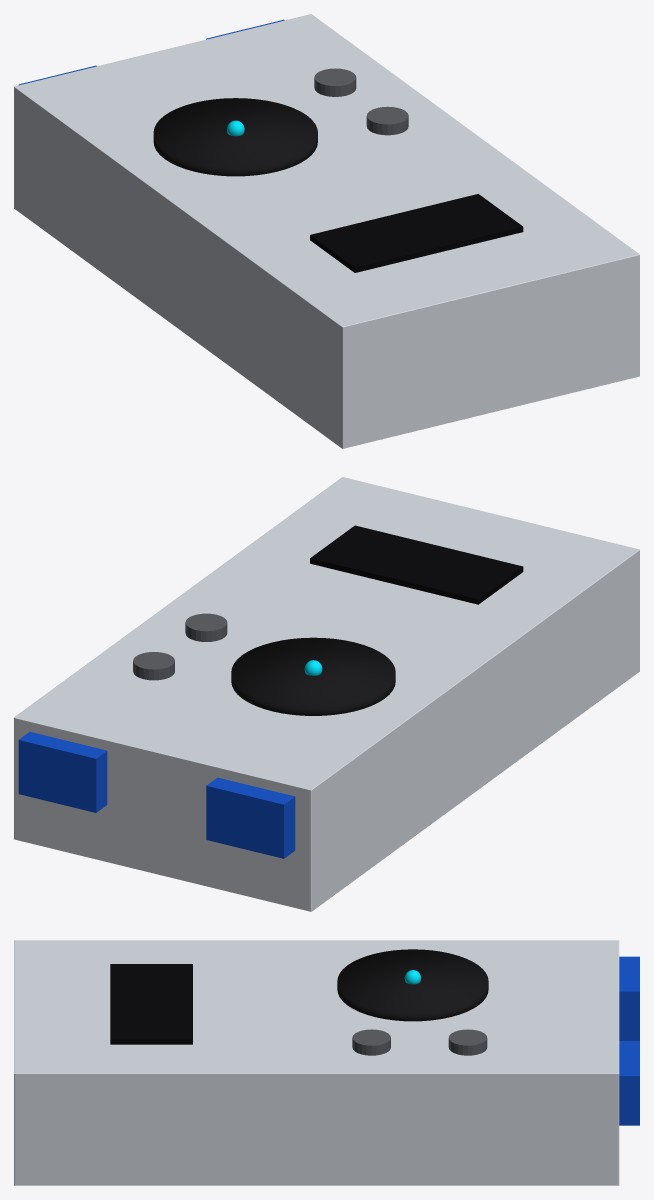
The model's file is concept_5_airdeck_controller.obj.
3 views of the same model, one above another, from view 1: azimuth 30°, elevation 25°; view 2: azimuth 150°, elevation 25°; view 3: azimuth 270°, elevation 25° (orthographic). The views are drawn at different scales.
Parts seen in each view (by area): view 1: AirDeck_Chassis_Magnesium, AirDeck_ConcaveTrackpad, AirDeck_OLED_DisplayPill, AirDeck_ProfileBtn_B, AirDeck_ProfileBtn_A; view 2: AirDeck_Chassis_Magnesium, AirDeck_ConcaveTrackpad, AirDeck_OLED_DisplayPill, AirDeck_ShoulderBumper_L1, AirDeck_ShoulderBumper_R1, AirDeck_ProfileBtn_A, AirDeck_ProfileBtn_B; view 3: AirDeck_Chassis_Magnesium, AirDeck_ConcaveTrackpad, AirDeck_OLED_DisplayPill, AirDeck_ShoulderBumper_L1, AirDeck_ShoulderBumper_R1, AirDeck_ProfileBtn_B, AirDeck_ProfileBtn_A.
Boxes of the visible parts, <box> form: AirDeck_Chassis_Magnesium: <box>14,14,639,448</box>; AirDeck_ConcaveTrackpad: <box>153,98,317,176</box>; AirDeck_OLED_DisplayPill: <box>310,194,523,272</box>; AirDeck_ProfileBtn_B: <box>314,68,356,96</box>; AirDeck_ProfileBtn_A: <box>366,106,408,135</box>; AirDeck_Chassis_Magnesium: <box>14,477,639,911</box>; AirDeck_ConcaveTrackpad: <box>231,637,395,715</box>; AirDeck_OLED_DisplayPill: <box>310,525,523,604</box>; AirDeck_ShoulderBumper_L1: <box>206,777,295,858</box>; AirDeck_ShoulderBumper_R1: <box>18,732,107,812</box>; AirDeck_ProfileBtn_A: <box>185,613,227,641</box>; AirDeck_ProfileBtn_B: <box>133,652,174,680</box>; AirDeck_Chassis_Magnesium: <box>14,940,619,1185</box>; AirDeck_ConcaveTrackpad: <box>337,949,488,1021</box>; AirDeck_OLED_DisplayPill: <box>110,964,192,1044</box>; AirDeck_ShoulderBumper_L1: <box>619,956,639,1040</box>; AirDeck_ShoulderBumper_R1: <box>619,1041,639,1125</box>; AirDeck_ProfileBtn_B: <box>448,1029,487,1055</box>; AirDeck_ProfileBtn_A: <box>352,1029,390,1055</box>.
Bounding box in the file's own units: 0.046 × 0.021 × 0.091.
